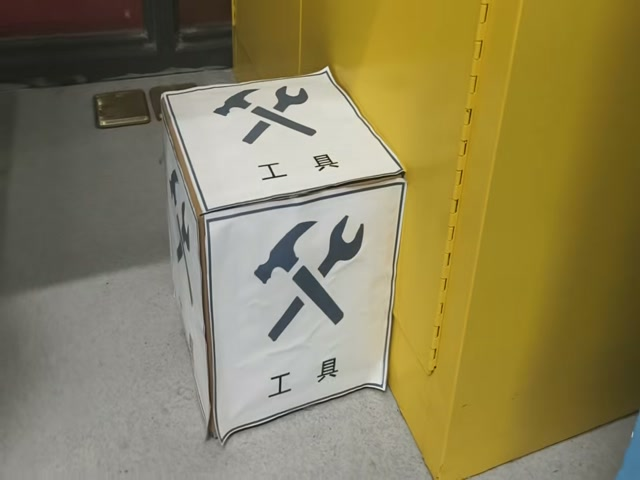Cube_tool: (154, 64, 412, 224)
